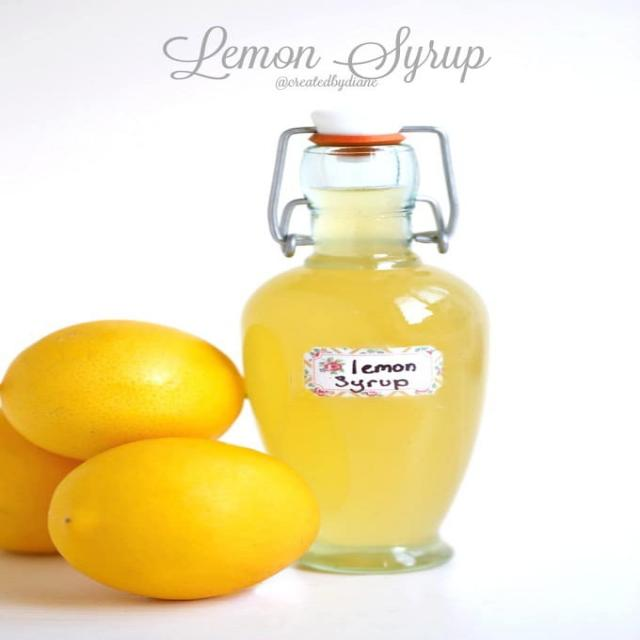lemon: (47, 439, 320, 599), (0, 320, 242, 460)
